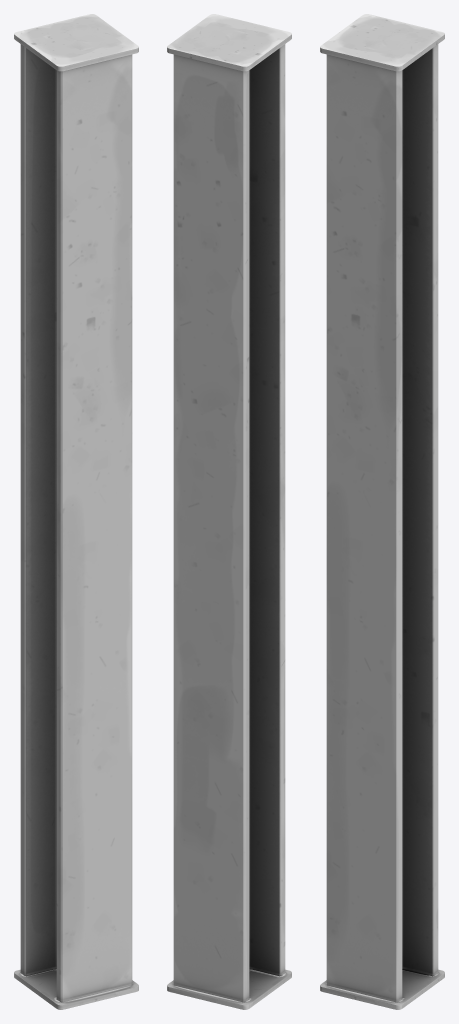
The model's file is PlatformPillar.glb.
The picture shows the model from 3 angles, left to right: view 1: azimuth 30°, elevation 25°; view 2: azimuth 150°, elevation 25°; view 3: azimuth 330°, elevation 25°; orthographic projection.
Parts seen in each view (by area): view 1: PlatformPillar.001; view 2: PlatformPillar.001; view 3: PlatformPillar.001.
Part boxes in pixels (bbox=[...]): PlatformPillar.001: bbox=[14, 14, 138, 1009]; PlatformPillar.001: bbox=[167, 14, 291, 1009]; PlatformPillar.001: bbox=[320, 14, 444, 1009].
Bounding box in the file's own units: 0.1243 × 1.37 × 0.1243.
1 material, 1 textured.
